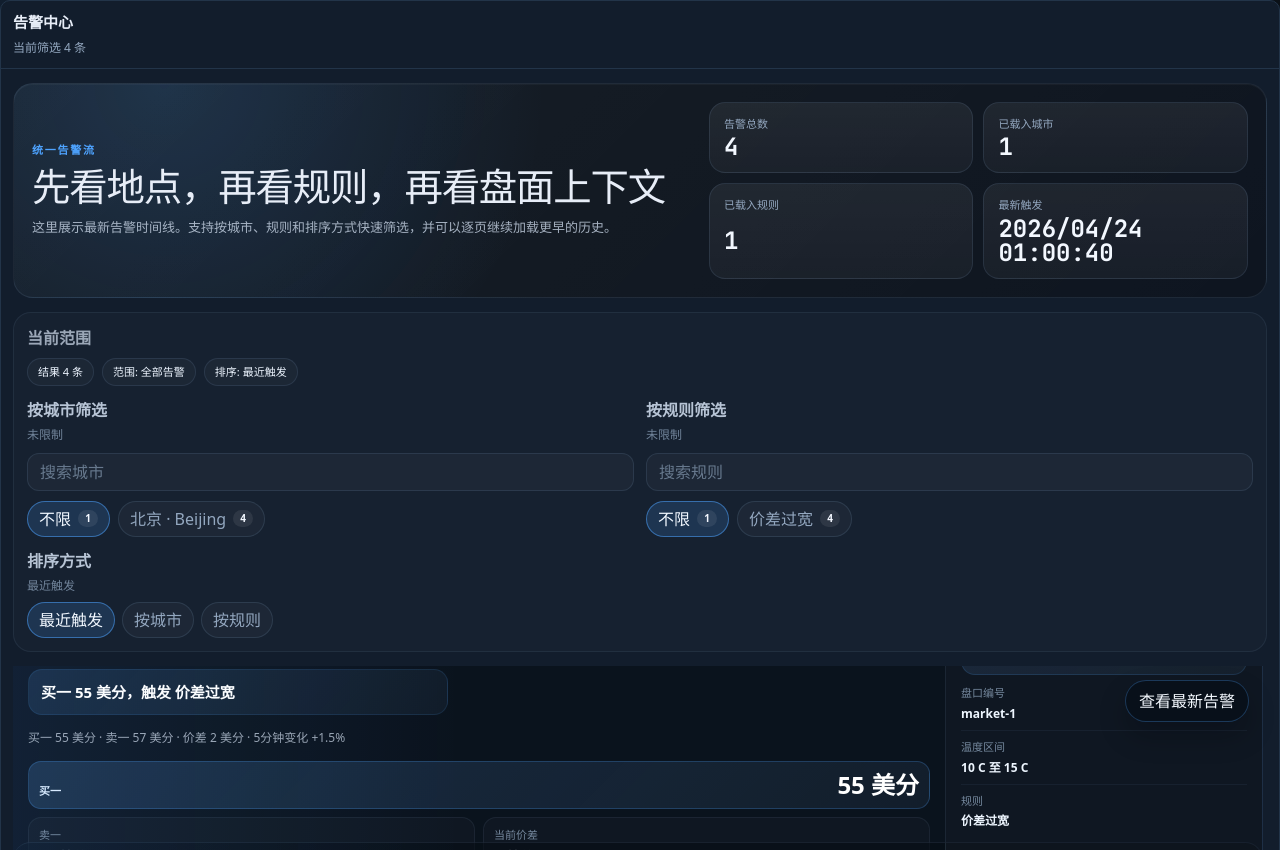
Test case: AlertCenterView › shows a jump-to-latest entry away from the top and scrolls back when clicked
The width and height of the screenshot is (1280, 850).
(page scrolled)
Click the button with test id "alert-center-latest-cta": (1187, 701) [1125,680,1249,722]
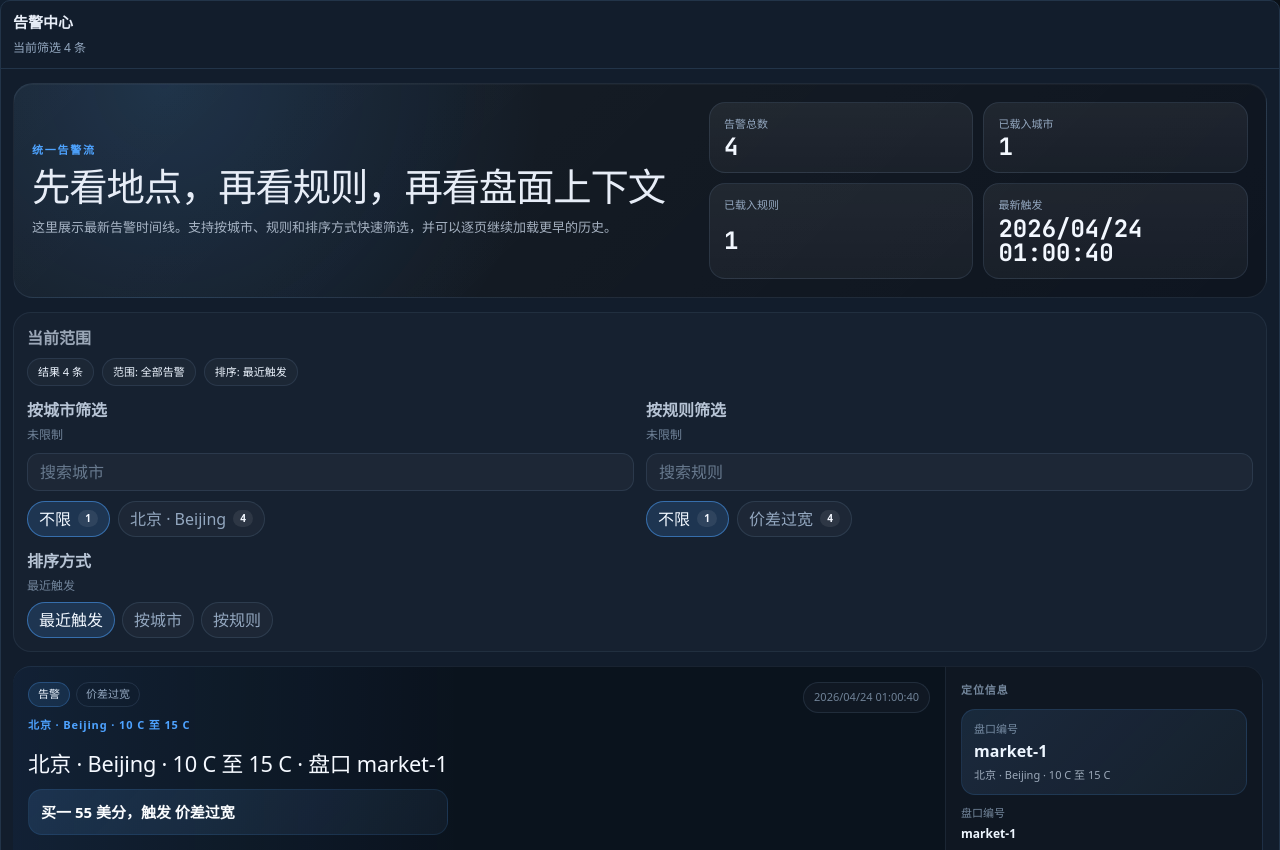
expect the button with test id "alert-center-latest-cta" is gone: met
